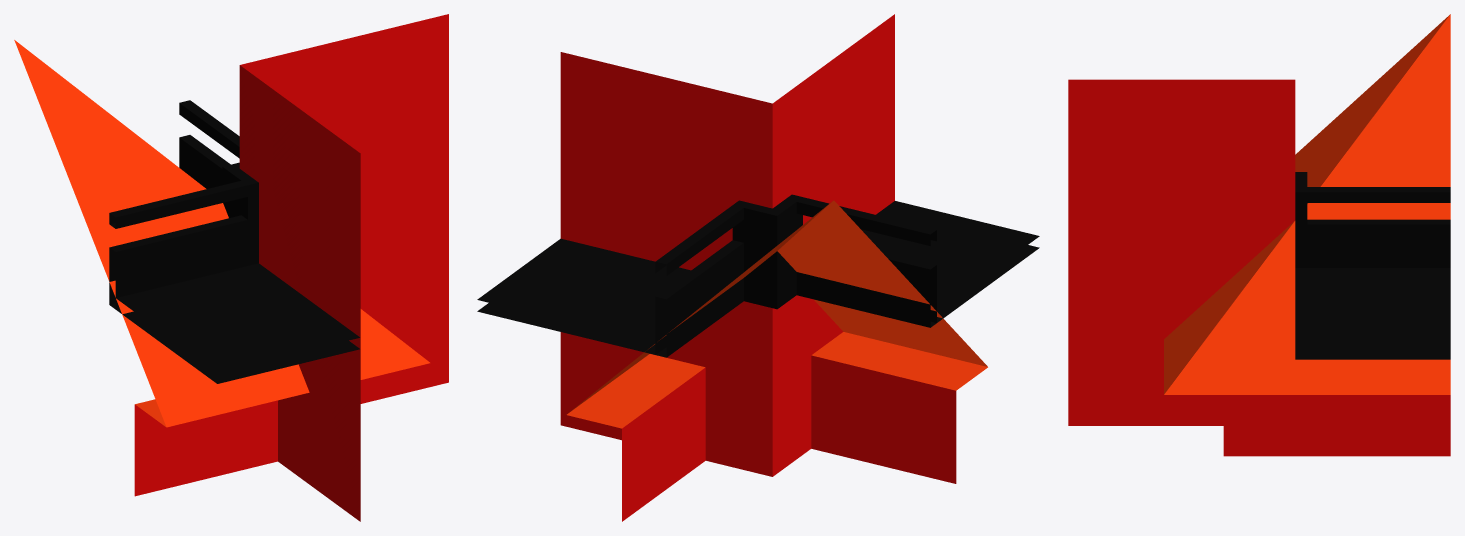
The picture shows the model from 3 angles, left to right: view 1: azimuth 30°, elevation 25°; view 2: azimuth 150°, elevation 25°; view 3: azimuth 270°, elevation 25°; orthographic projection. The views are drawn at different scales.
Visible parts, largest first — view 1: None_P_A_E_A_S_P_E_E_None; view 2: None_P_A_E_A_S_P_E_E_None; view 3: None_P_A_E_A_S_P_E_E_None.
Boxes of the visible parts, box(x1,y1,x2,y2) form: None_P_A_E_A_S_P_E_E_None: box(14, 14, 448, 521); None_P_A_E_A_S_P_E_E_None: box(477, 14, 1039, 521); None_P_A_E_A_S_P_E_E_None: box(1068, 14, 1450, 456).
Bounding box in the file's own units: 100 × 100 × 100.
